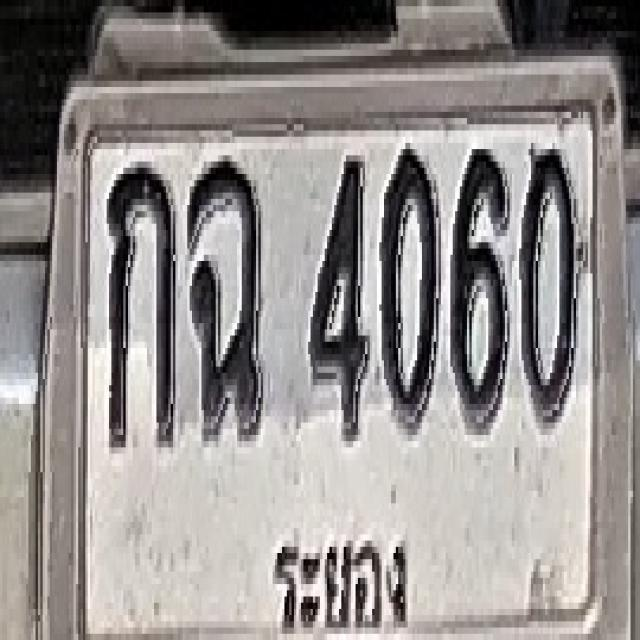-: (187, 156, 263, 442), (107, 158, 175, 450)
0: (519, 143, 581, 422), (380, 143, 438, 429)
4: (308, 152, 368, 438)
6: (450, 143, 508, 429)
RYG: (264, 518, 414, 637)
